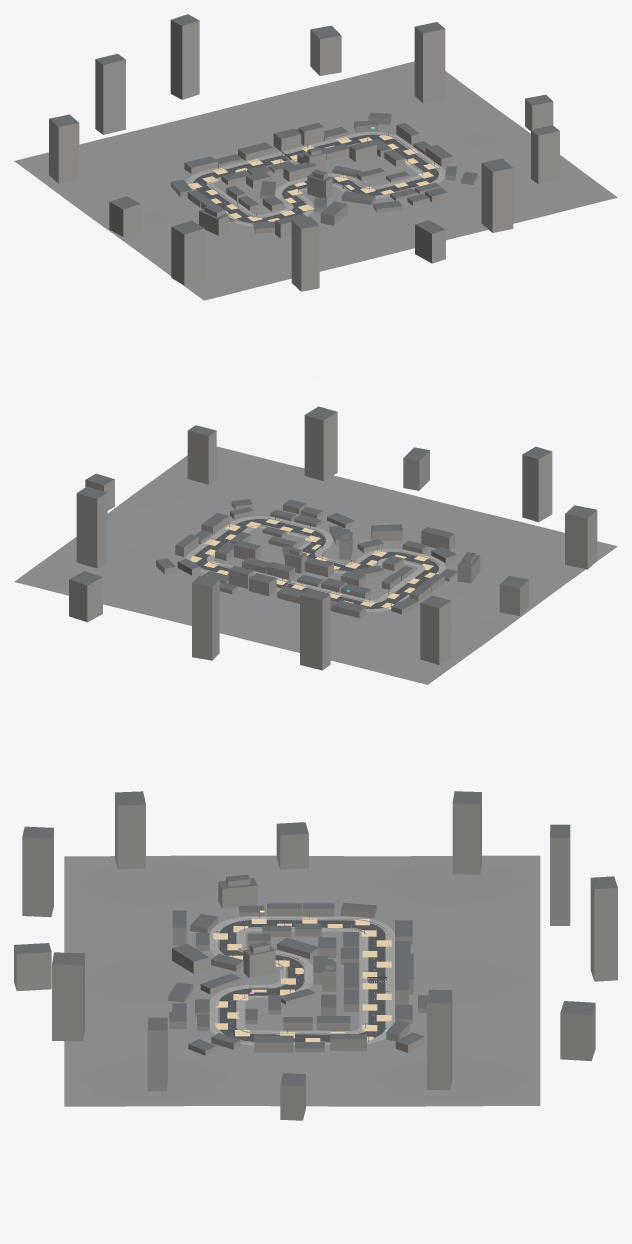
The model's file is industrial_zone.glb.
3 views of the same model, one above another, from view 1: azimuth 30°, elevation 25°; view 2: azimuth 150°, elevation 25°; view 3: azimuth 270°, elevation 25° (orthographic). The views are drawn at different scales.
Parts seen in each view (by area): view 1: industrial_zone - City; view 2: industrial_zone - City; view 3: industrial_zone - City.
Boxes of the visible parts, x1,y1,x2,y2 form: industrial_zone - City: [14, 14, 617, 300]; industrial_zone - City: [14, 406, 617, 684]; industrial_zone - City: [14, 791, 617, 1120].
Bounding box in the file's own units: 932 × 552 × 888.
